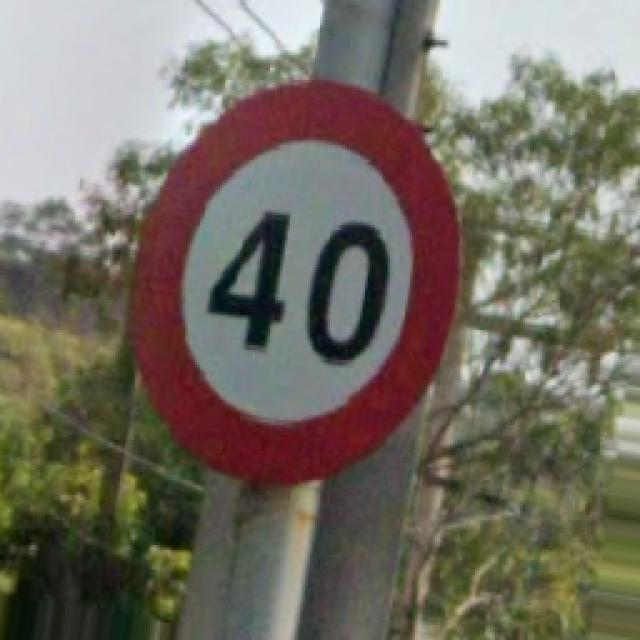Speed Limit -40-: (132, 80, 458, 482)
